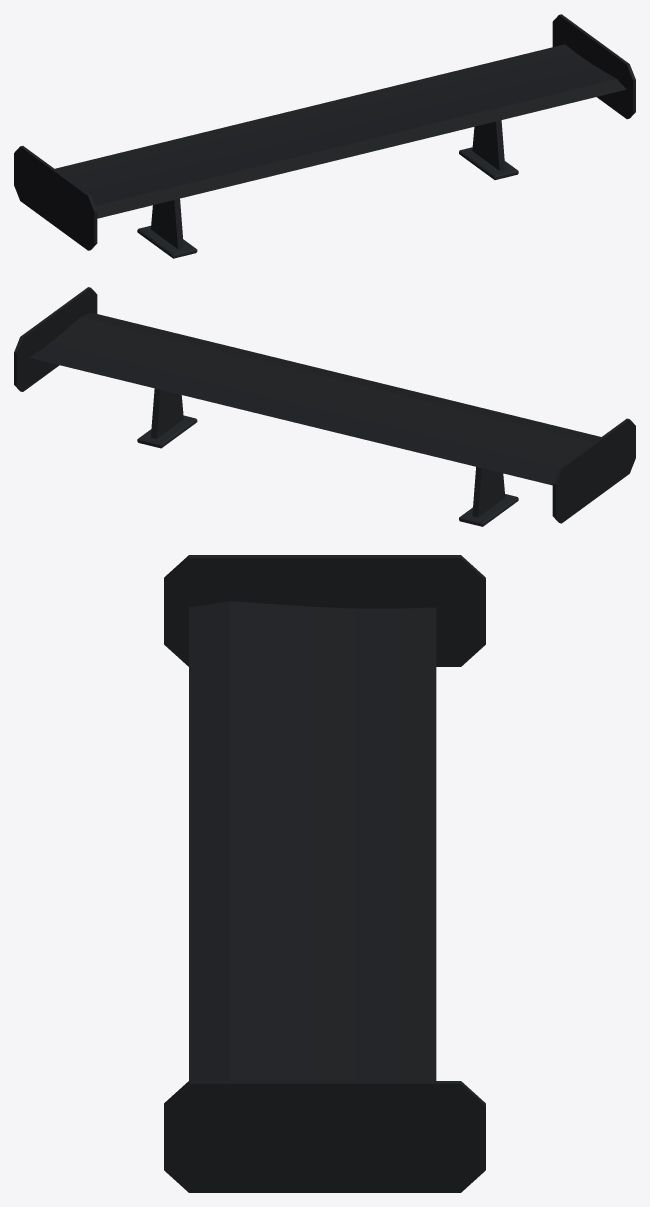
File: apex_v8.glb
The picture shows the model from 3 angles, top to bottom: view 1: azimuth 30°, elevation 25°; view 2: azimuth 150°, elevation 25°; view 3: azimuth 270°, elevation 25°; orthographic projection. The views are drawn at different scales.
Visible parts, largest first — view 1: wing_element, model; view 2: wing_element, model; view 3: wing_element.
Part boxes in pixels (left/top/right/bottom): wing_element: left=14, top=14, right=635, bottom=250; model: left=137, top=120, right=518, bottom=258; wing_element: left=14, top=287, right=635, bottom=523; model: left=137, top=388, right=518, bottom=526; wing_element: left=164, top=555, right=485, bottom=1192.
Size of the model in its own units: 1.52 by 0.258 by 0.39.
2 materials, 1 textured.
